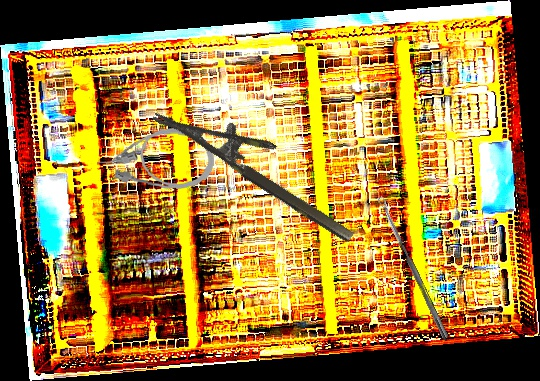Cannula: (95, 122, 217, 192)
Needle Holder: (151, 80, 372, 246)
Surgical Spoon: (377, 195, 451, 342)
